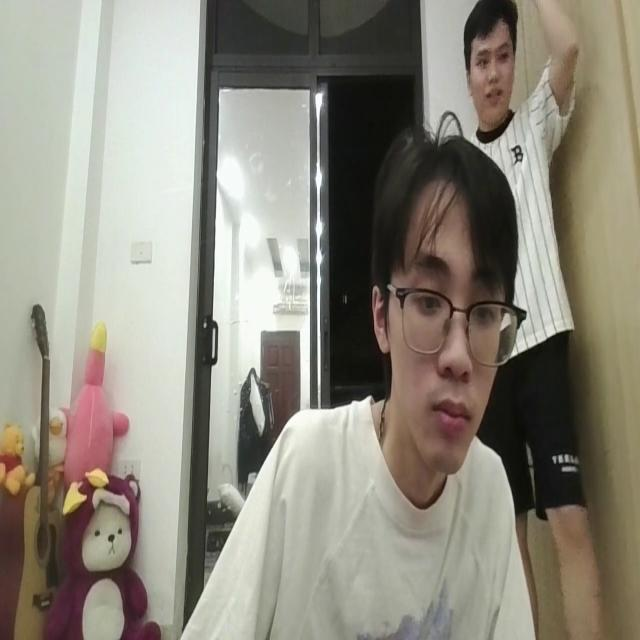extra_person: (465, 0, 610, 612)
student: (170, 119, 532, 640)
